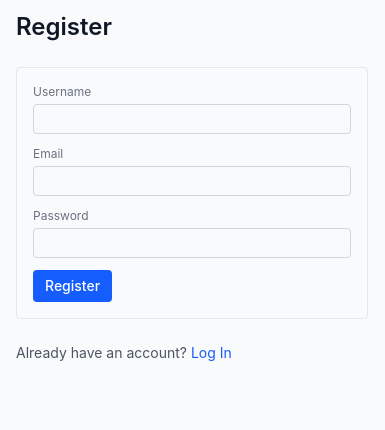
RegisterPage › rejects a username that is too short
The width and height of the screenshot is (385, 430).
Type "ab" into the field labelled "Username" at (192, 119), box [33,104,351,134]
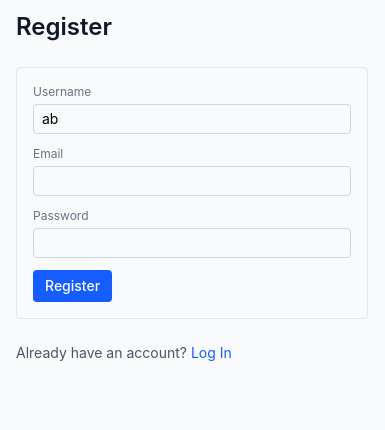
Type "alice@example.com" into the field labelled "Email" at (192, 181), box [33,166,351,196]
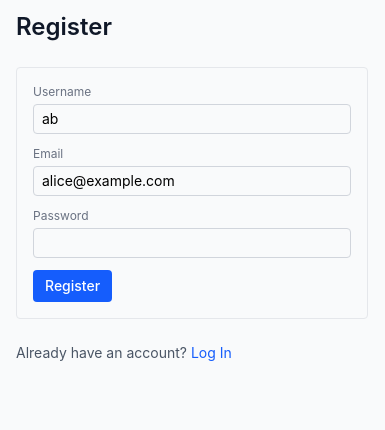
Type "correct-password" into the password field labelled "Password" at (192, 243), box [33,228,351,258]
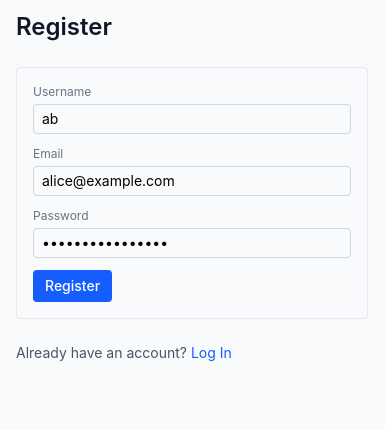
Click the button "Register" at (73, 286), box [33,270,112,302]
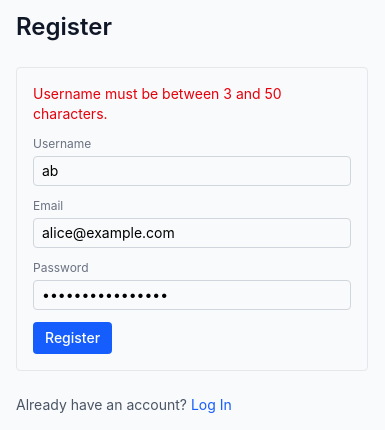
Now the text "Username must be between 3 and 50 characters." is shown, box [33,85,282,122]
